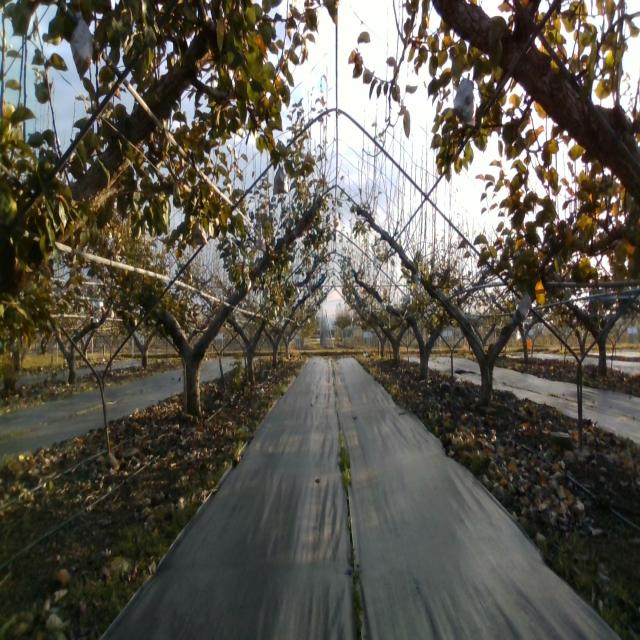pearbags: (70, 10, 93, 81), (450, 73, 474, 124), (272, 162, 290, 196), (191, 217, 209, 246), (518, 285, 532, 319)
